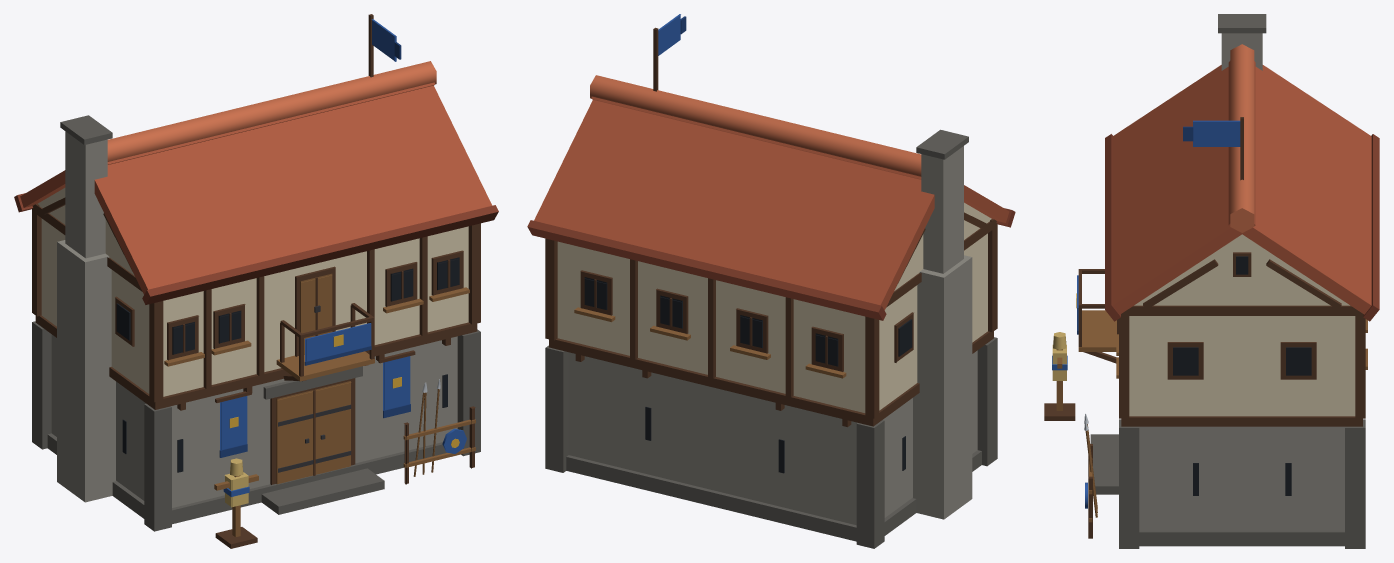
File: barracks.glb
3 renders of one model, left to right at view 1: azimuth 30°, elevation 25°; view 2: azimuth 150°, elevation 25°; view 3: azimuth 270°, elevation 25°, orthographic.
Parts seen in each view (by area): view 1: barracks; view 2: barracks; view 3: barracks.
Boxes of the visible parts, x1,y1,x2,y2 form: barracks: (14, 14, 498, 548); barracks: (527, 14, 1015, 548); barracks: (1044, 14, 1379, 548).
Bounding box in the file's own units: 8.15 × 8.75 × 6.52.
Materials: 1 (1 with a texture image).
